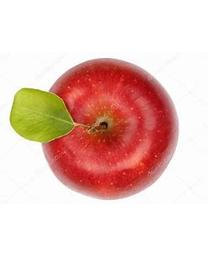apple: (9, 56, 179, 199)
